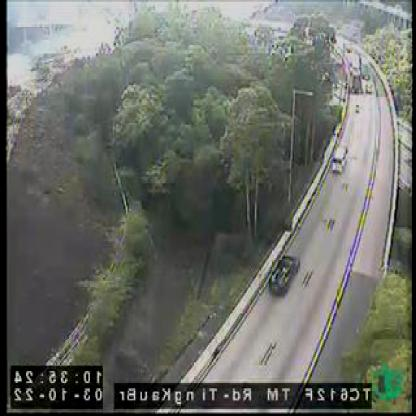Car: (270, 255, 302, 293), (332, 145, 350, 170)
